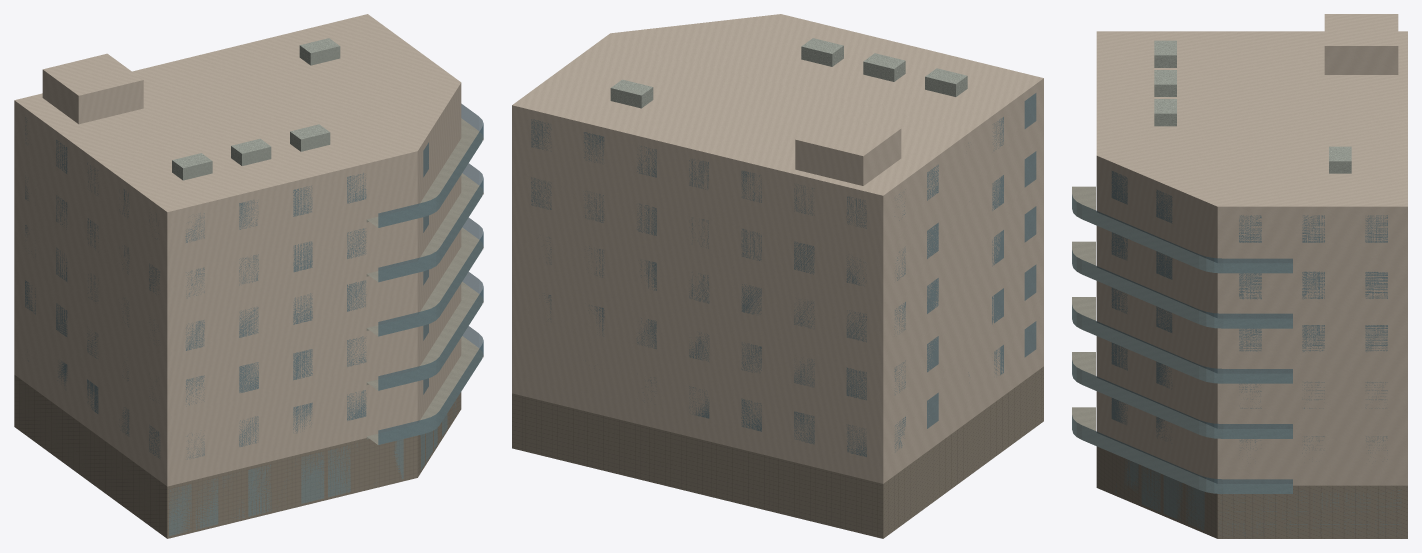
File: HIL04_hlod.glb
3 views of the same model, side by side, from view 1: azimuth 30°, elevation 25°; view 2: azimuth 150°, elevation 25°; view 3: azimuth 270°, elevation 25° (orthographic). The views are drawn at different scales.
Parts seen in each view (by area): view 1: HLOD__plaster, HLOD__stone, HLOD__tintedglass, HLOD__concrete, HLOD__glass, HLOD__utility; view 2: HLOD__plaster, HLOD__stone, HLOD__tintedglass, HLOD__utility; view 3: HLOD__plaster, HLOD__tintedglass, HLOD__concrete, HLOD__stone, HLOD__utility, HLOD__glass.
Part boxes in pixels (<box>): HLOD__plaster: <box>14,14,461,486</box>; HLOD__stone: <box>14,375,461,538</box>; HLOD__tintedglass: <box>25,104,483,458</box>; HLOD__concrete: <box>366,118,483,444</box>; HLOD__glass: <box>169,403,455,535</box>; HLOD__utility: <box>172,38,340,180</box>; HLOD__plaster: <box>512,14,1043,483</box>; HLOD__stone: <box>512,366,1043,538</box>; HLOD__tintedglass: <box>531,93,1036,456</box>; HLOD__utility: <box>610,38,967,108</box>; HLOD__plaster: <box>1096,14,1407,485</box>; HLOD__tintedglass: <box>1072,171,1387,493</box>; HLOD__concrete: <box>1072,186,1292,493</box>; HLOD__stone: <box>1096,446,1407,538</box>; HLOD__utility: <box>1154,40,1351,173</box>; HLOD__glass: <box>1115,460,1400,535</box>.
Bounding box in the file's own units: 25.39 × 23.05 × 19.41.
6 materials, 6 textured.
